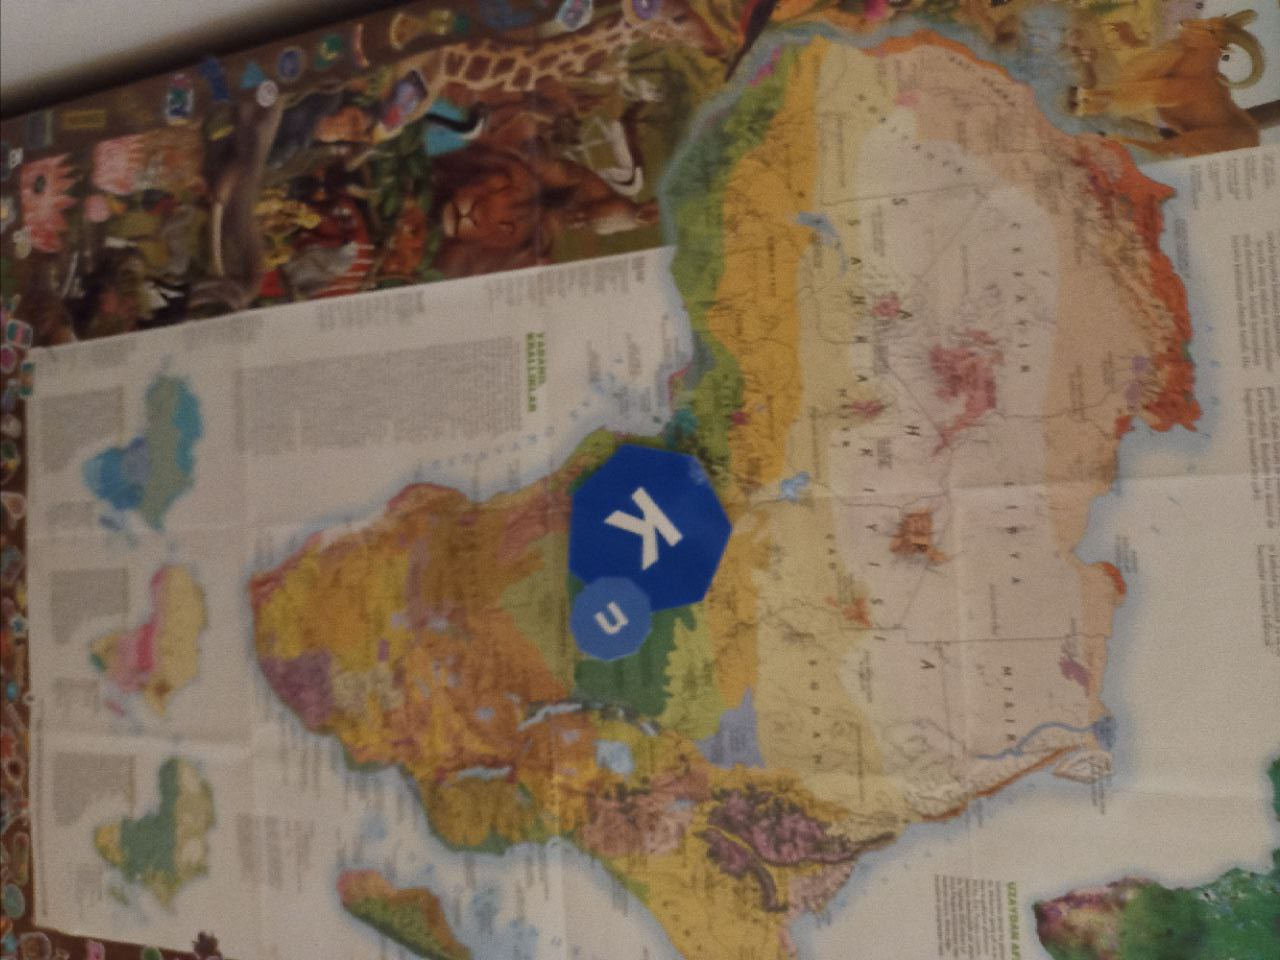knative: (565, 449, 733, 664)
